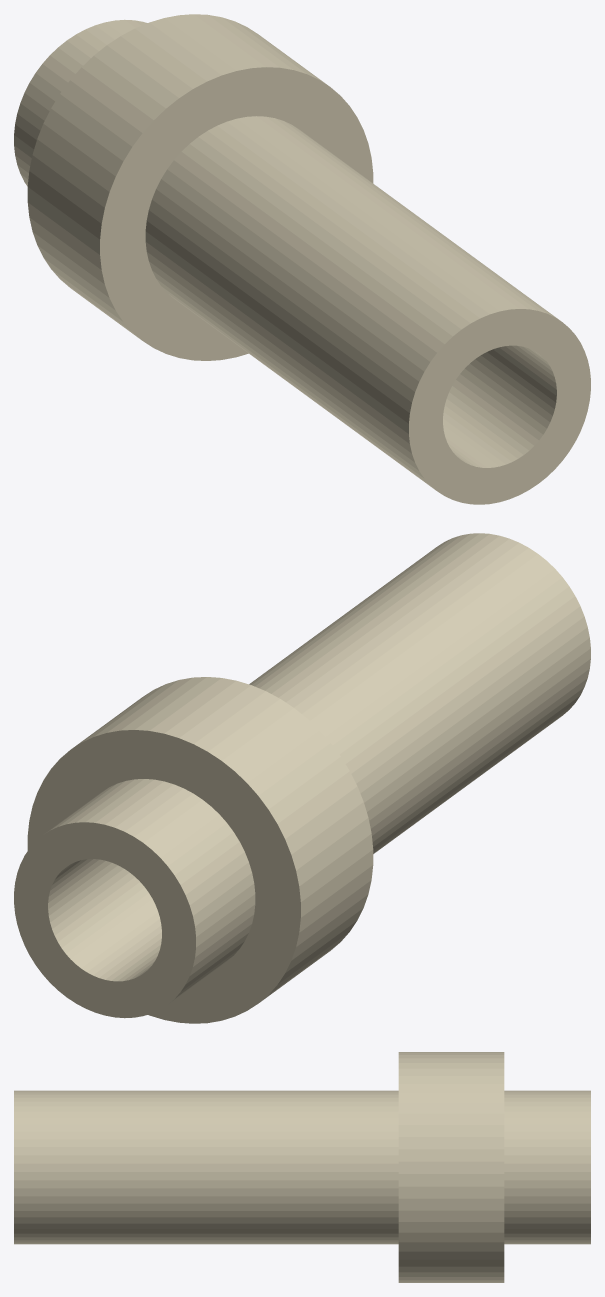
Rendered from regulator-vacuum-fitting.glb.
3 views of the same model, one above another, from view 1: azimuth 30°, elevation 25°; view 2: azimuth 150°, elevation 25°; view 3: azimuth 270°, elevation 25° (orthographic). The views are drawn at different scales.
Visible parts, largest first — view 1: world; view 2: world; view 3: world.
Part boxes in pixels (x1,y1,x2,y2): world: (14,14,590,504); world: (14,533,590,1023); world: (14,1052,590,1282).
Size of the model in its own units: 0.012 by 0.012 by 0.03.
